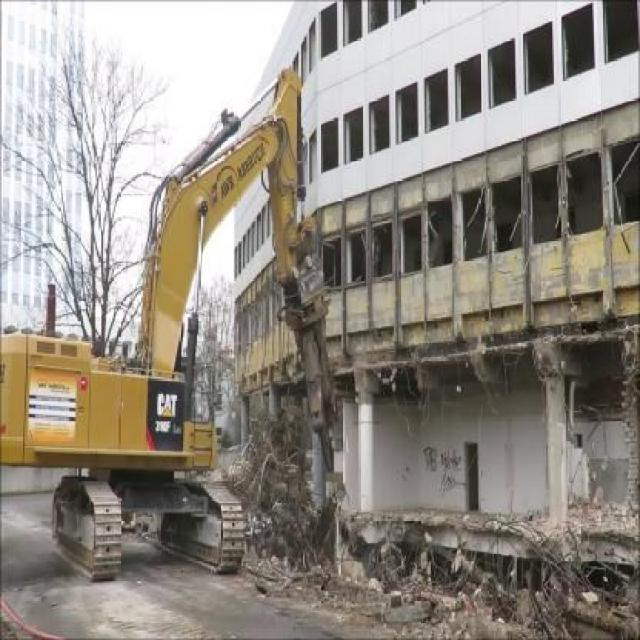Excavator: (1, 67, 336, 581)
